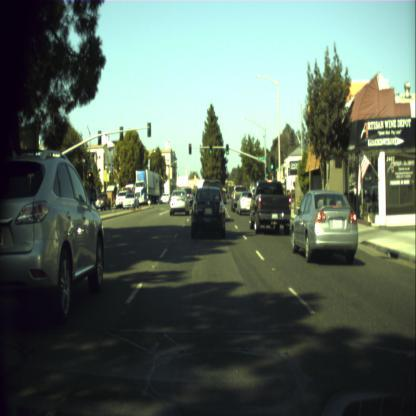Green: (270, 154, 275, 170), (266, 166, 269, 178), (225, 144, 228, 154), (209, 144, 212, 154)
Red: (188, 142, 192, 154), (88, 172, 92, 182)
